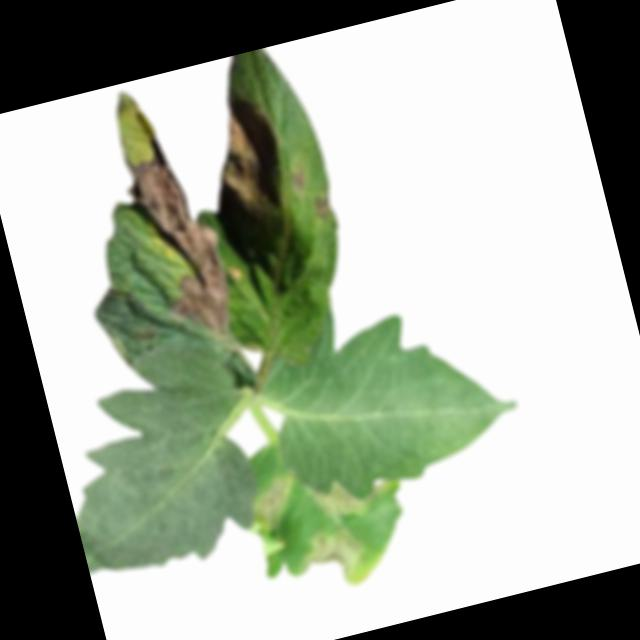Late_blight: (115, 128, 239, 345), (205, 89, 292, 225), (300, 466, 397, 528), (289, 522, 369, 594), (247, 472, 306, 540), (310, 191, 335, 224), (286, 168, 308, 196)
